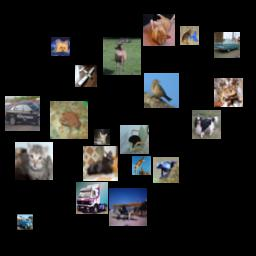airplane: (109, 188, 147, 226), (75, 65, 97, 87)
automobile: (5, 96, 40, 131), (214, 32, 240, 58), (17, 214, 33, 230)
bird: (144, 73, 179, 108)
cat: (15, 142, 53, 180), (83, 146, 118, 181), (143, 14, 175, 46), (120, 125, 149, 154), (94, 129, 110, 145)
deer: (103, 37, 141, 75), (180, 26, 199, 45), (132, 156, 151, 175)
dog: (192, 110, 221, 139), (51, 37, 70, 56)
frog: (50, 101, 88, 139), (214, 78, 243, 107), (153, 157, 179, 183)
truck: (76, 182, 108, 214)
